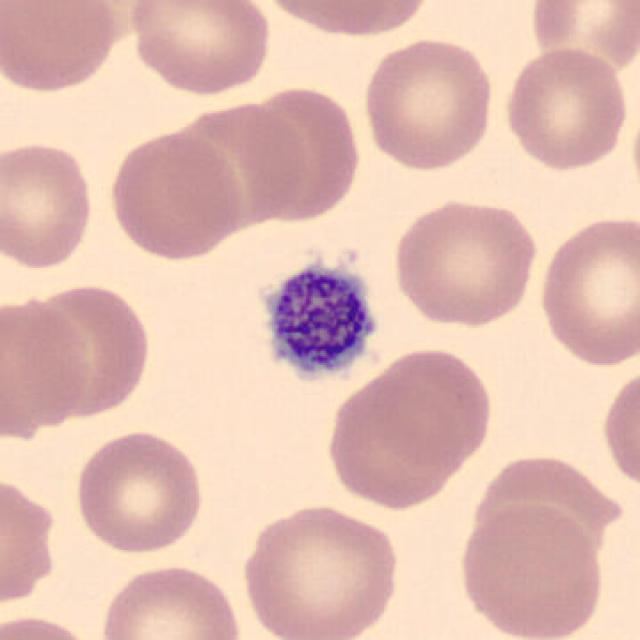Platelets: (249, 252, 384, 392)
RBC: (236, 499, 404, 640), (322, 365, 469, 513), (454, 499, 606, 640), (390, 196, 540, 330), (357, 33, 498, 173), (103, 127, 245, 263), (22, 279, 156, 423), (240, 78, 364, 228), (71, 427, 208, 557), (361, 344, 498, 471), (500, 44, 631, 173), (534, 208, 638, 370), (472, 453, 618, 562), (126, 0, 276, 97), (0, 291, 94, 441), (0, 136, 98, 273), (96, 559, 247, 640), (0, 0, 124, 97), (524, 0, 639, 79), (0, 478, 65, 610), (255, 0, 438, 39), (598, 362, 638, 498), (0, 610, 103, 640), (627, 81, 640, 215)
